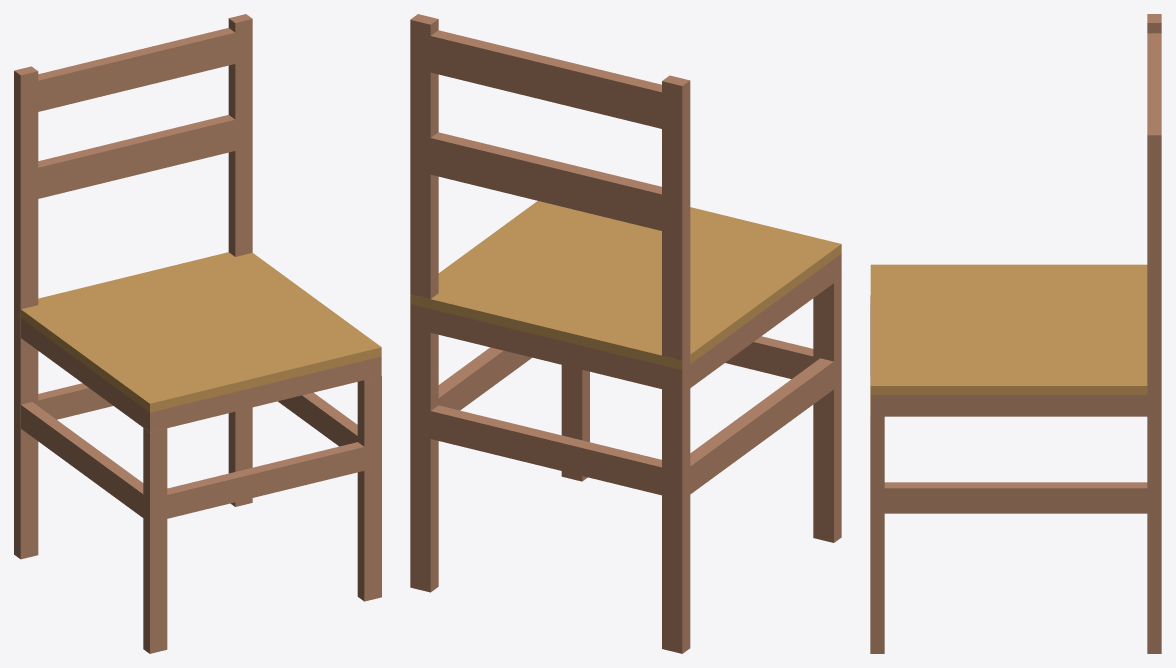
3 views of the same model, side by side, from view 1: azimuth 30°, elevation 25°; view 2: azimuth 150°, elevation 25°; view 3: azimuth 270°, elevation 25° (orthographic). The views are drawn at different scales.
Visible parts, largest first — view 1: Merged Geometry, Cube 11; view 2: Merged Geometry, Cube 11; view 3: Cube 11, Merged Geometry.
Part boxes in pixels (x1,y1,x2,y2): Merged Geometry: [14, 14, 381, 653]; Cube 11: [21, 252, 381, 412]; Merged Geometry: [410, 14, 841, 653]; Cube 11: [410, 201, 841, 369]; Cube 11: [870, 264, 1147, 394]; Merged Geometry: [870, 14, 1161, 653].
Size of the model in its own units: 0.7788 by 1.55 by 0.7893.
